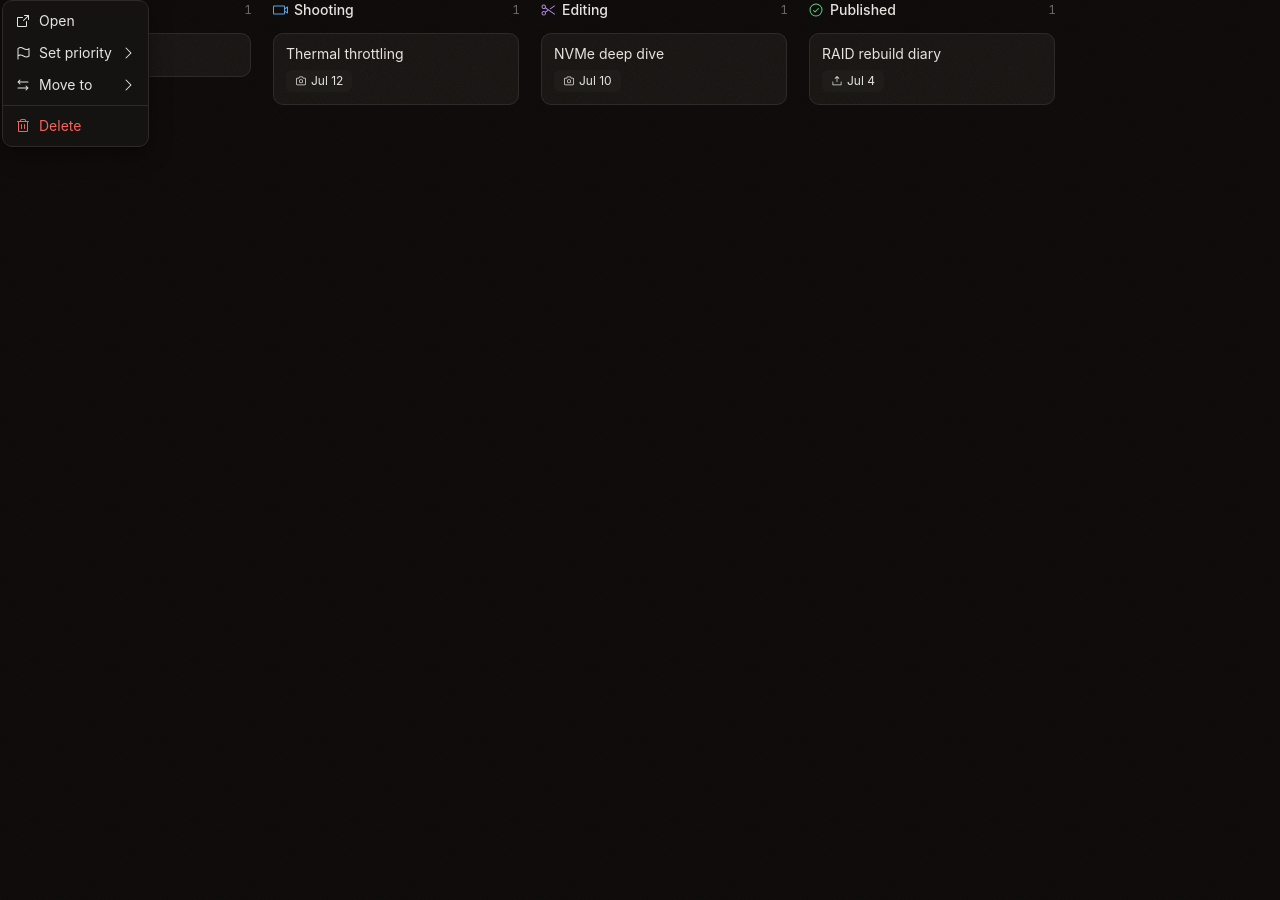
Scenario: BoardView › does not trash the project when the confirm is cancelled
Click the menu item "Delete": (48, 126) [15,117,81,134]
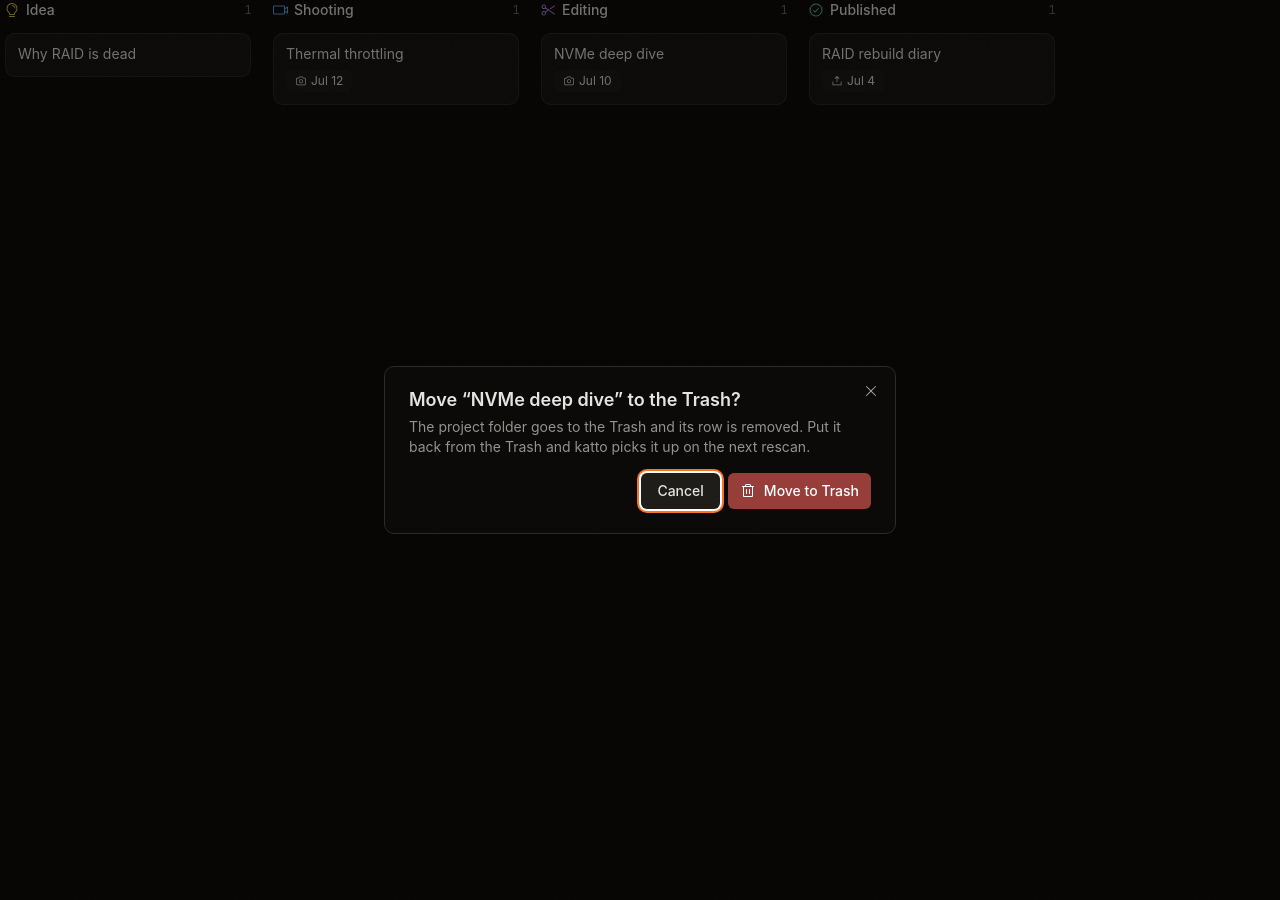
Click the button "Cancel": (681, 491) [641,473,720,509]
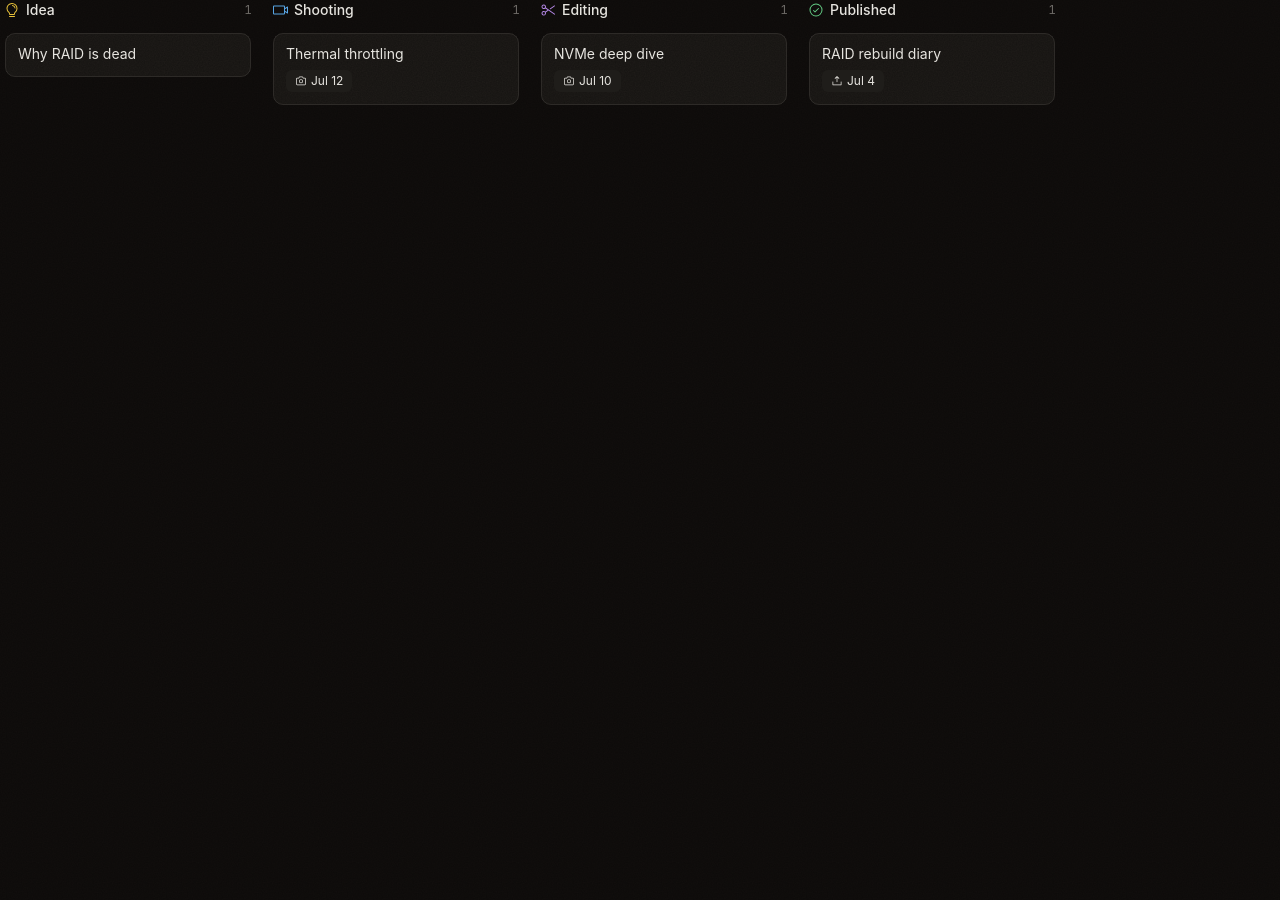
expect the text "NVMe deep dive" is shown: met, box [554,45,664,62]
expect the button "Move to Trash" is gone: met
